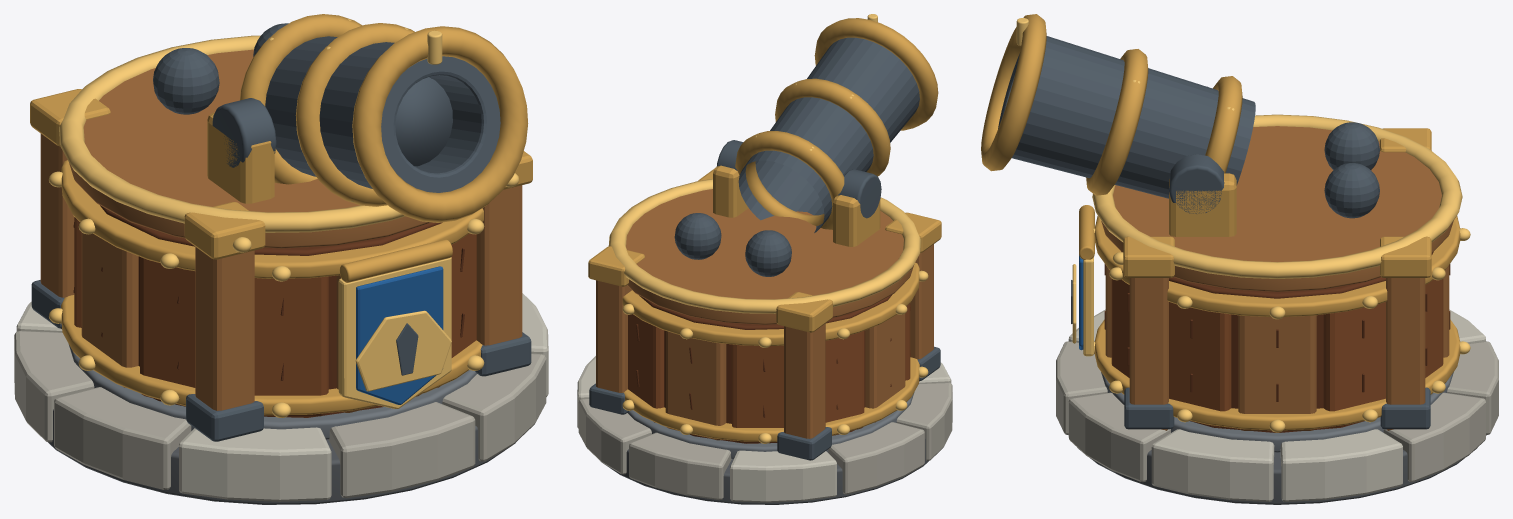
The model's file is base-cannon-action.glb.
3 renders of one model, left to right at view 1: azimuth 30°, elevation 25°; view 2: azimuth 150°, elevation 25°; view 3: azimuth 270°, elevation 25°, orthographic. The views are drawn at different scales.
Parts seen in each view (by area): view 1: Base cannon surface 05, Base cannon surface 02, Base cannon surface 14, Base cannon surface 08, Base cannon surface 13, Base cannon surface 07, Base cannon surface 06, Base cannon surface 01, Base cannon surface 09, Base cannon surface 10, Base cannon surface 03, Base cannon surface 16 (+4 smaller); view 2: Base cannon surface 05, Base cannon surface 02, Base cannon surface 13, Base cannon surface 07, Base cannon surface 06, Base cannon surface 14, Base cannon surface 08, Base cannon surface 01, Base cannon surface 16, Base cannon surface 11, Base cannon surface 09, Base cannon surface 04 (+3 smaller); view 3: Base cannon surface 05, Base cannon surface 13, Base cannon surface 07, Base cannon surface 01, Base cannon surface 06, Base cannon surface 02, Base cannon surface 08, Base cannon surface 14, Base cannon surface 16, Base cannon surface 04, Base cannon surface 11, Base cannon surface 09 (+3 smaller).
Part boxes in pixels (x1=…): Base cannon surface 05: x1=40, y1=49, x2=522, y2=412; Base cannon surface 02: x1=14, y1=331, x2=546, y2=498; Base cannon surface 14: x1=239, y1=14, x2=528, y2=222; Base cannon surface 08: x1=49, y1=35, x2=519, y2=417; Base cannon surface 13: x1=265, y1=36, x2=500, y2=192; Base cannon surface 07: x1=30, y1=89, x2=532, y2=415; Base cannon surface 06: x1=74, y1=217, x2=476, y2=416; Base cannon surface 01: x1=16, y1=293, x2=548, y2=501; Base cannon surface 09: x1=31, y1=280, x2=531, y2=441; Base cannon surface 10: x1=356, y1=266, x2=443, y2=404; Base cannon surface 03: x1=68, y1=344, x2=476, y2=439; Base cannon surface 16: x1=153, y1=23, x2=288, y2=114; Base cannon surface 05: x1=596, y1=189, x2=933, y2=440; Base cannon surface 02: x1=578, y1=382, x2=952, y2=500; Base cannon surface 13: x1=738, y1=37, x2=919, y2=232; Base cannon surface 07: x1=588, y1=168, x2=941, y2=441; Base cannon surface 06: x1=628, y1=303, x2=910, y2=442; Base cannon surface 14: x1=735, y1=18, x2=938, y2=229; Base cannon surface 08: x1=608, y1=179, x2=928, y2=443; Base cannon surface 01: x1=577, y1=356, x2=951, y2=502; Base cannon surface 16: x1=674, y1=213, x2=791, y2=276; Base cannon surface 11: x1=713, y1=165, x2=880, y2=246; Base cannon surface 09: x1=589, y1=346, x2=940, y2=460; Base cannon surface 04: x1=636, y1=294, x2=910, y2=443; Base cannon surface 05: x1=1101, y1=126, x2=1453, y2=430; Base cannon surface 13: x1=998, y1=36, x2=1255, y2=198; Base cannon surface 07: x1=1079, y1=128, x2=1460, y2=430; Base cannon surface 01: x1=1068, y1=309, x2=1485, y2=501; Base cannon surface 06: x1=1111, y1=279, x2=1443, y2=428; Base cannon surface 02: x1=1056, y1=341, x2=1498, y2=482; Base cannon surface 08: x1=1072, y1=114, x2=1470, y2=432; Base cannon surface 14: x1=981, y1=14, x2=1242, y2=195; Base cannon surface 16: x1=1324, y1=122, x2=1379, y2=218; Base cannon surface 04: x1=1104, y1=251, x2=1450, y2=432; Base cannon surface 11: x1=1169, y1=173, x2=1236, y2=236; Base cannon surface 09: x1=1071, y1=280, x2=1430, y2=429.
Bounding box in the file's own units: 3.99 × 3.91 × 4.65.
